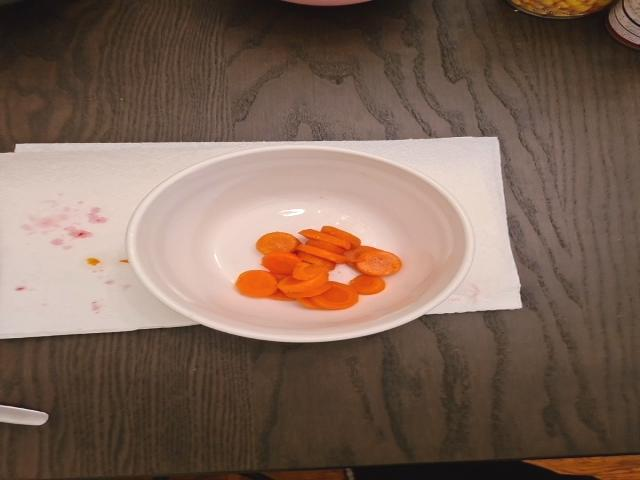kichen waste: (234, 226, 402, 308)
